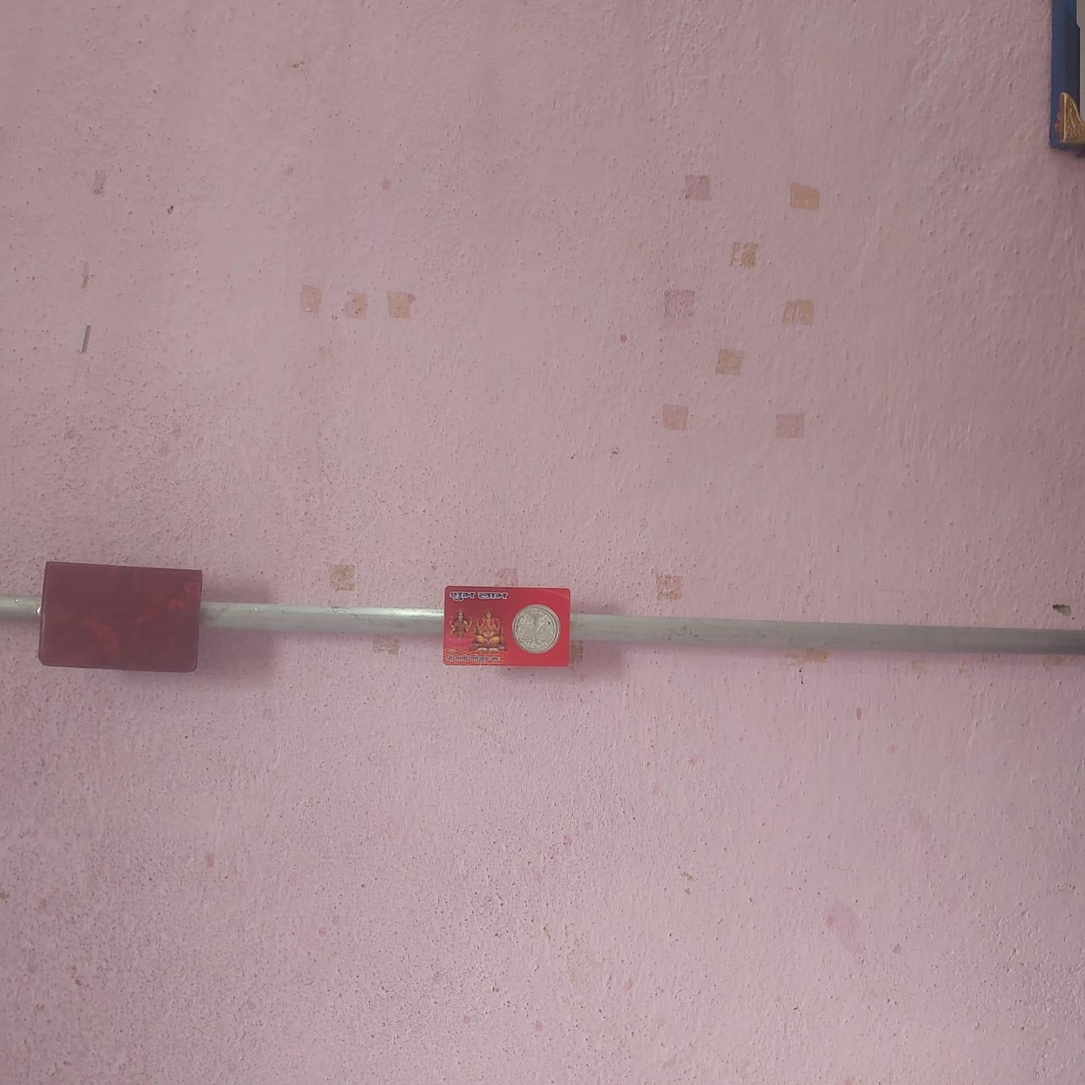blessing_card: (445, 581, 580, 670)
wallet: (36, 556, 211, 677)
